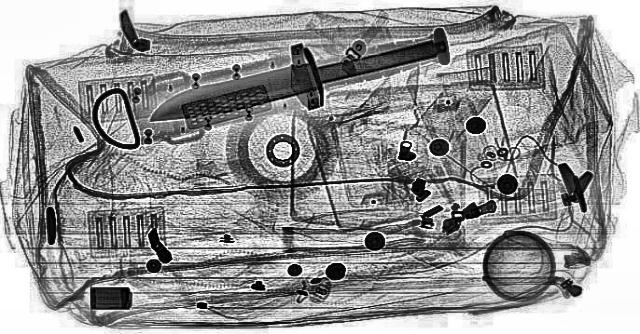Knife: (115, 7, 488, 147)
